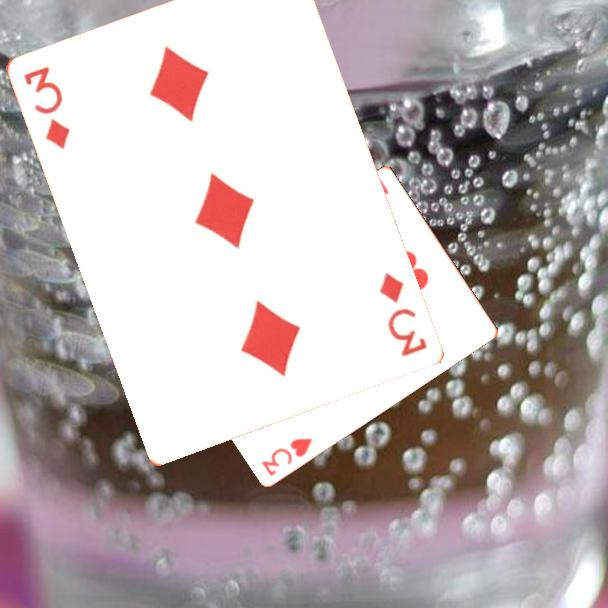d03: (375, 269, 430, 359), (19, 62, 73, 152)
h03: (258, 434, 316, 479)
